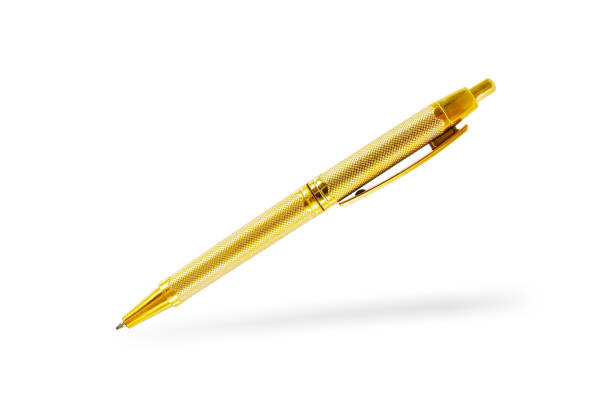pen: (111, 73, 505, 338)
